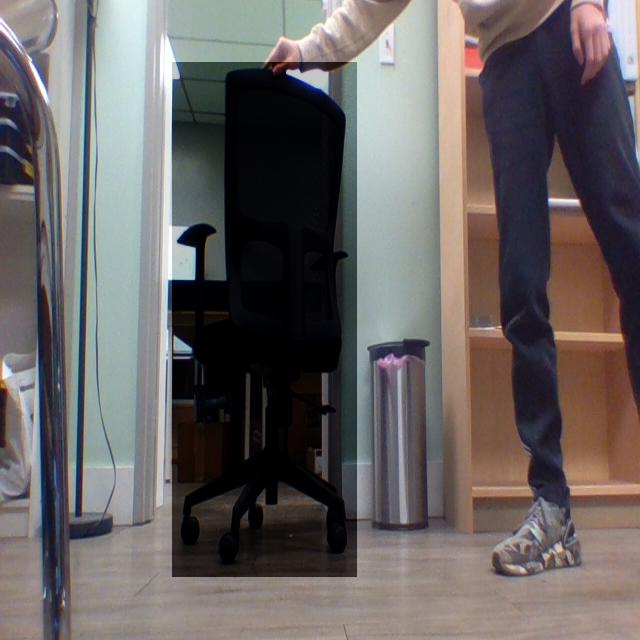black-chair: (172, 62, 358, 578)
